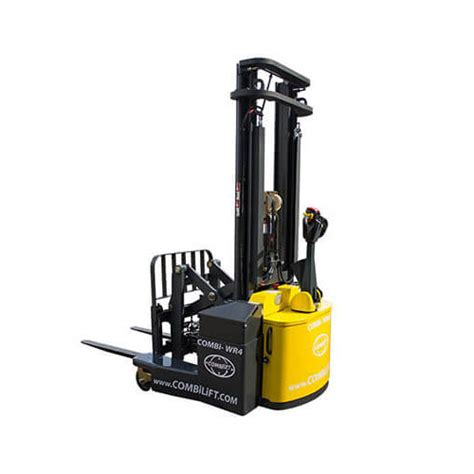Pallet Jack: (82, 55, 333, 416)
